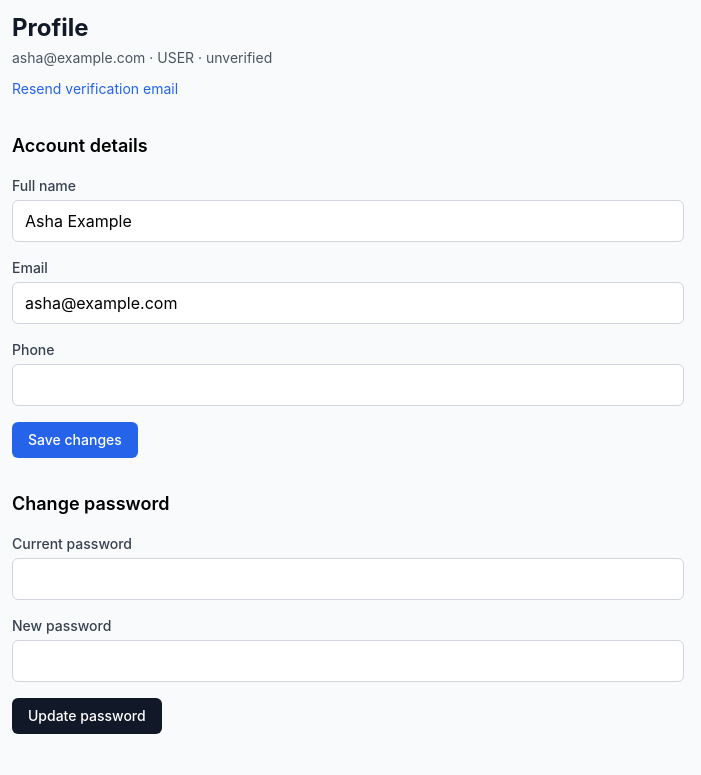
Test: profile page › surfaces an error when the verification email cannot be resent
Click the button "Resend verification email": point(95, 89) [12,79,178,99]
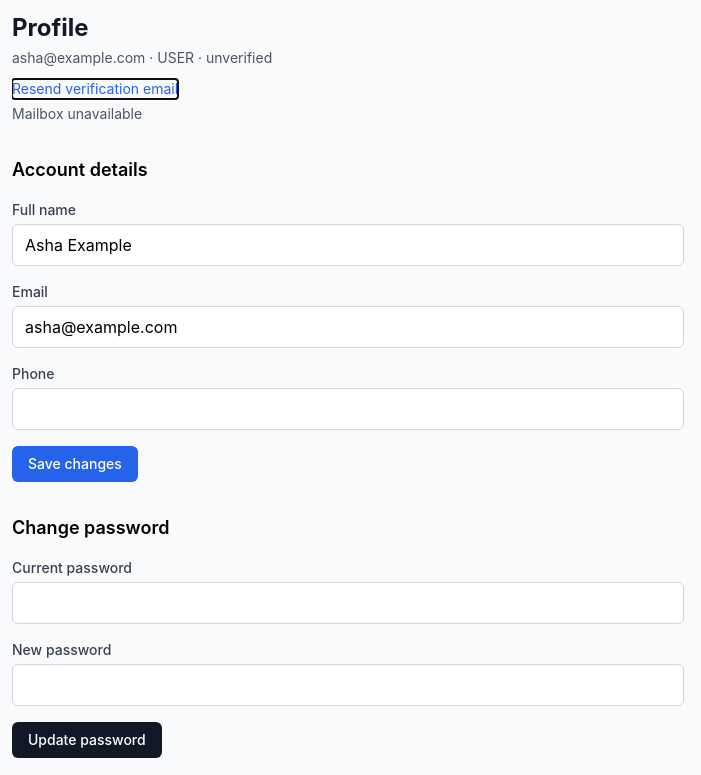
Now the text "Mailbox unavailable" is shown, box [12,105,142,122]
